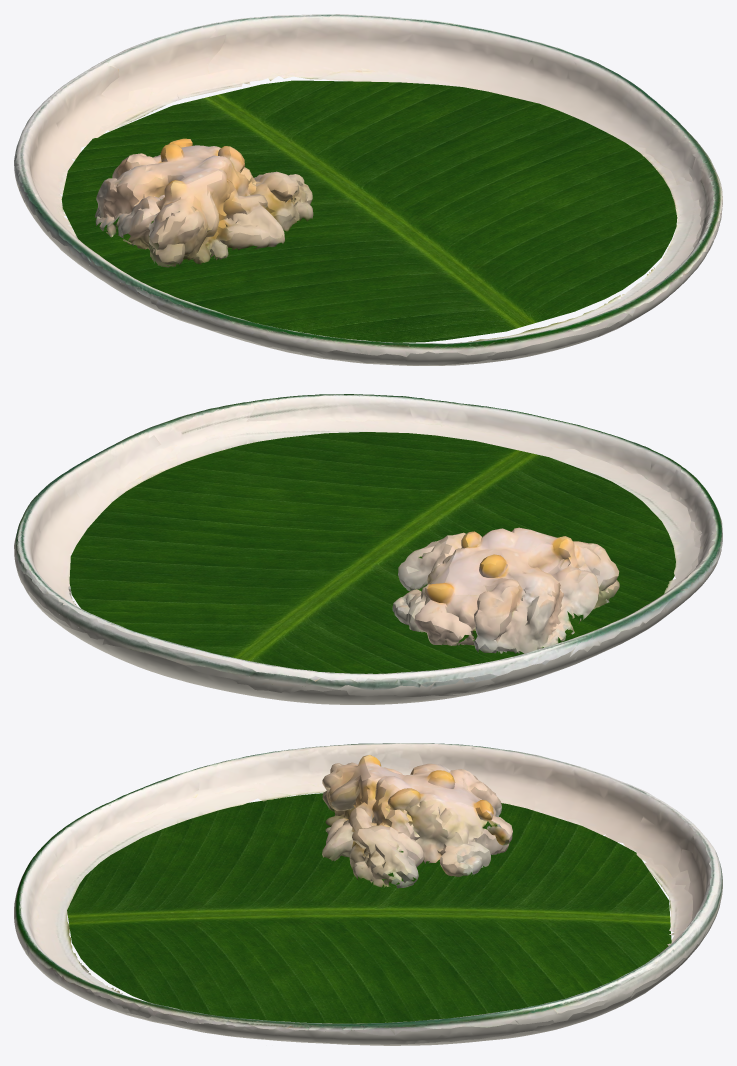
Rendered from mango-rice-3.glb.
3 renders of one model, top to bottom at view 1: azimuth 30°, elevation 25°; view 2: azimuth 150°, elevation 25°; view 3: azimuth 270°, elevation 25°, orthographic. The views are drawn at different scales.
Parts seen in each view (by area): view 1: canonical/continuous-leaf-repair, canonical/ceramic, food/independent-stage-3, canonical/underside; view 2: canonical/continuous-leaf-repair, canonical/ceramic, food/independent-stage-3, canonical/underside; view 3: canonical/continuous-leaf-repair, canonical/ceramic, food/independent-stage-3, canonical/underside.
Part boxes in pixels (x1,y1,x2,y2): canonical/continuous-leaf-repair: (61, 80, 677, 342); canonical/ceramic: (14, 14, 722, 356); food/independent-stage-3: (94, 138, 313, 267); canonical/underside: (15, 177, 722, 365); canonical/continuous-leaf-repair: (69, 432, 675, 673); canonical/ceramic: (14, 394, 722, 690); food/independent-stage-3: (392, 527, 619, 653); canonical/underside: (14, 545, 722, 704); canonical/continuous-leaf-repair: (67, 793, 671, 1023); canonical/ceramic: (14, 743, 722, 1035); food/independent-stage-3: (322, 755, 512, 888); canonical/underside: (17, 897, 721, 1045).
Size of the model in its own units: 2.47 by 0.3631 by 2.68.
Materials: 4 (3 with a texture image).
